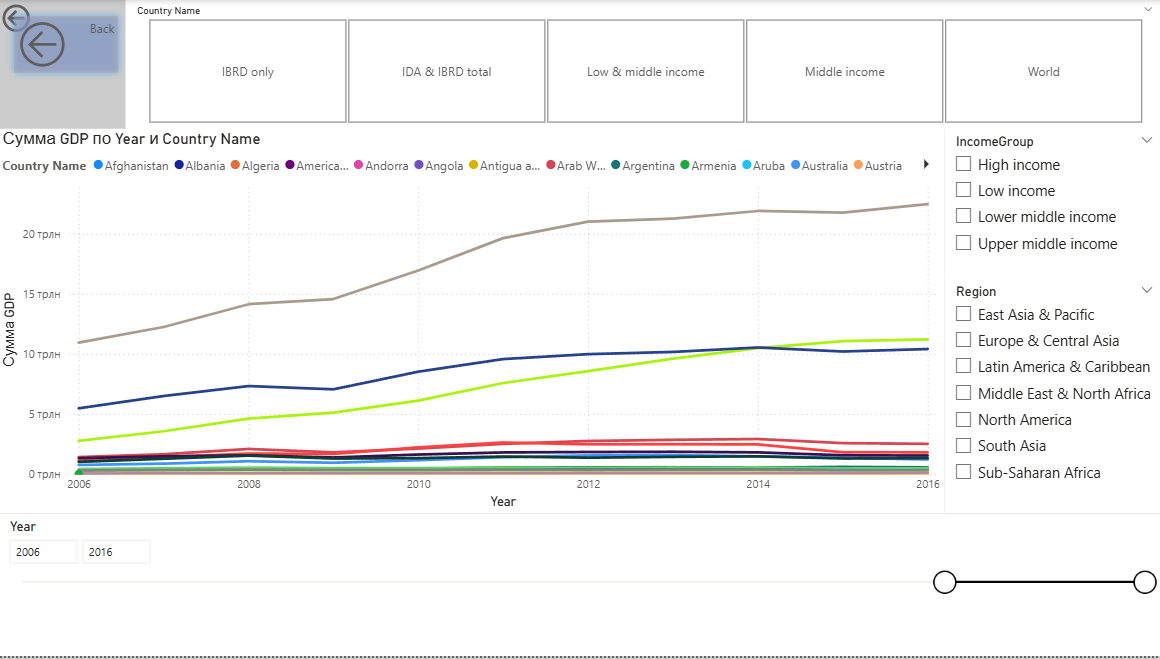

This screenshot's page, from the dashboard's own definition file:
{"tool":"powerbi","page":{"name":"GDP","canvas":[1280,720],"ordinal":1},"visuals":[{"type":"actionButton","box":[0,0,100,40],"z":0},{"type":"lineChart","fields":{"Category":["Country fact Tables.Year"],"Y":["Sum(Country fact Tables.GDP)"],"Series":["Country fact Tables.Country Name"]},"box":[0,141.3,1038.8,422.6],"z":1000},{"type":"slicer","fields":{"Values":["Country fact Tables.Country Name"]},"box":[140,0,1140.3,141.3],"z":2000},{"type":"slicer","fields":{"Values":["Meta Data.IncomeGroup"]},"box":[1038.8,141.3,241.5,164.7],"z":3000},{"type":"slicer","fields":{"Values":["Meta Data.Region"]},"box":[1038.8,306,241.5,258],"z":4000},{"type":"slicer","fields":{"Values":["Country fact Tables.Year"]},"box":[0,564,1280.3,156.4],"z":5000},{"type":"actionButton","box":[10,10,130.4,78.2],"z":6000}]}

Visuals, with their boxes on the page's 1280x720 design canvas (x1, y1, x2, y2). These are canvas units, not pixel positions in the 1160x659 screenshot, which may show the page scaled, cropped or inside an application window:
actionButton: {"x1": 0, "y1": 0, "x2": 100, "y2": 40}
lineChart - Country fact Tables.Year x Sum(Country fact Tables.GDP): {"x1": 0, "y1": 141, "x2": 1039, "y2": 564}
slicer - Country fact Tables.Country Name: {"x1": 140, "y1": 0, "x2": 1280, "y2": 141}
slicer - Meta Data.IncomeGroup: {"x1": 1039, "y1": 141, "x2": 1280, "y2": 306}
slicer - Meta Data.Region: {"x1": 1039, "y1": 306, "x2": 1280, "y2": 564}
slicer - Country fact Tables.Year: {"x1": 0, "y1": 564, "x2": 1280, "y2": 720}
actionButton: {"x1": 10, "y1": 10, "x2": 140, "y2": 88}
